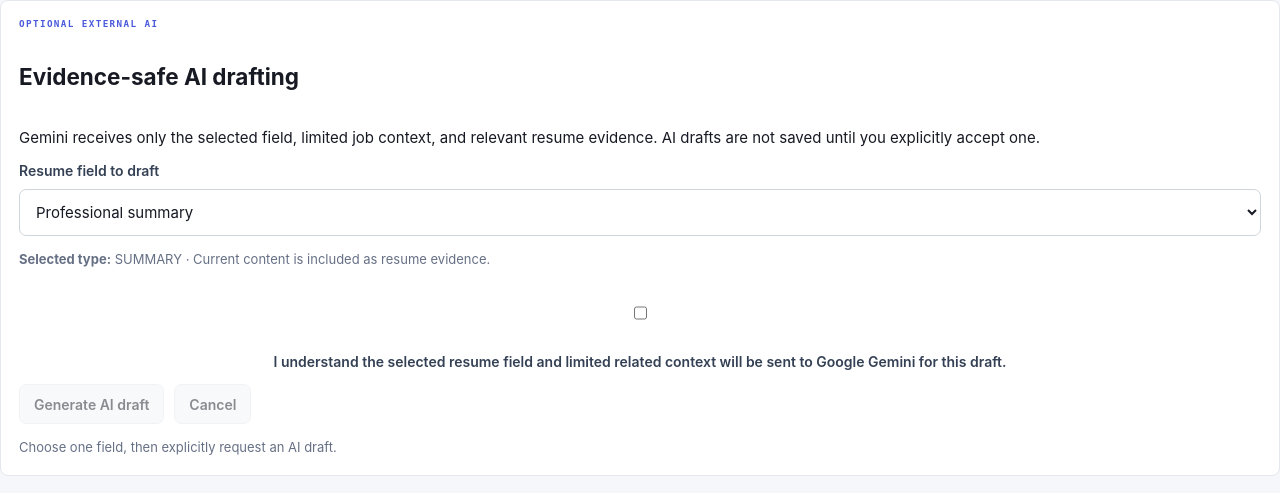
Test: AiDraftPanel › surfaces a normalized failure and keeps keyboard focus on Generate after cancellation
Click the checkbox labelled "I understand the selected resume field": (640, 313) [634,285,647,341]
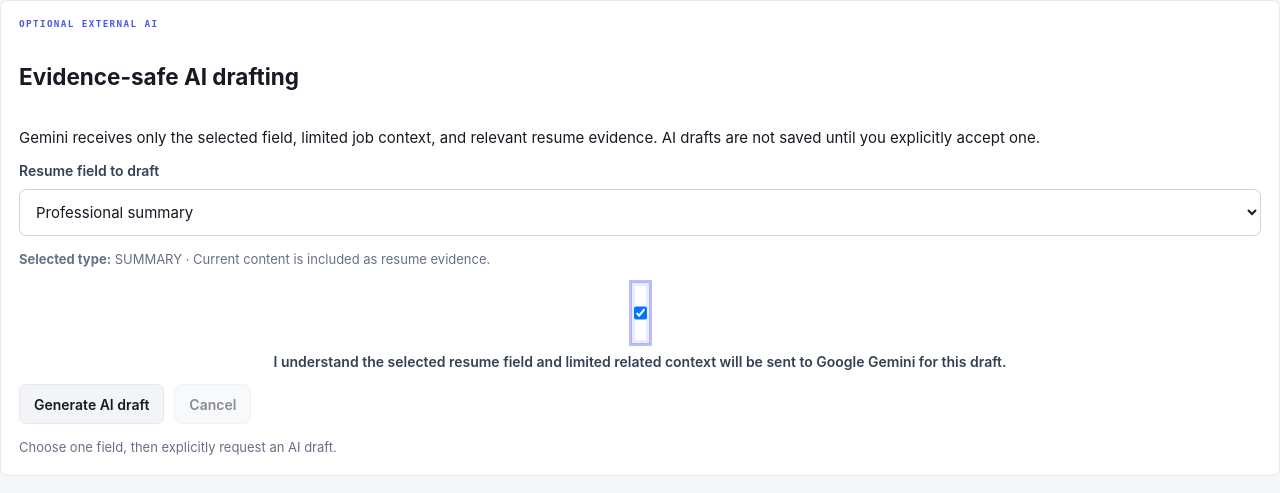
Click the button "Generate AI draft": (92, 404) [19,384,164,424]
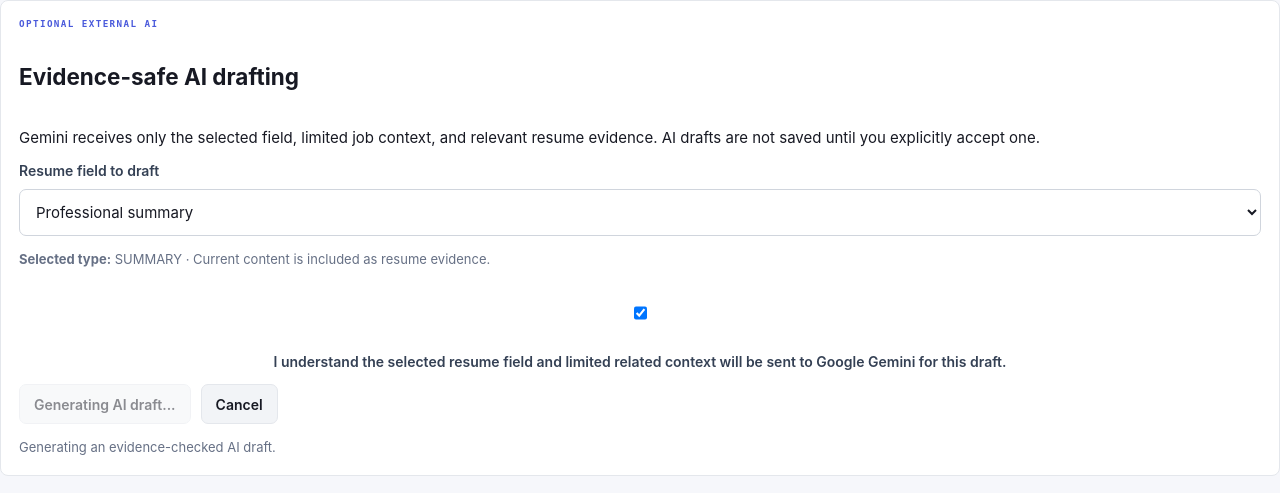
Click the button "Cancel": (239, 404) [201,384,278,424]
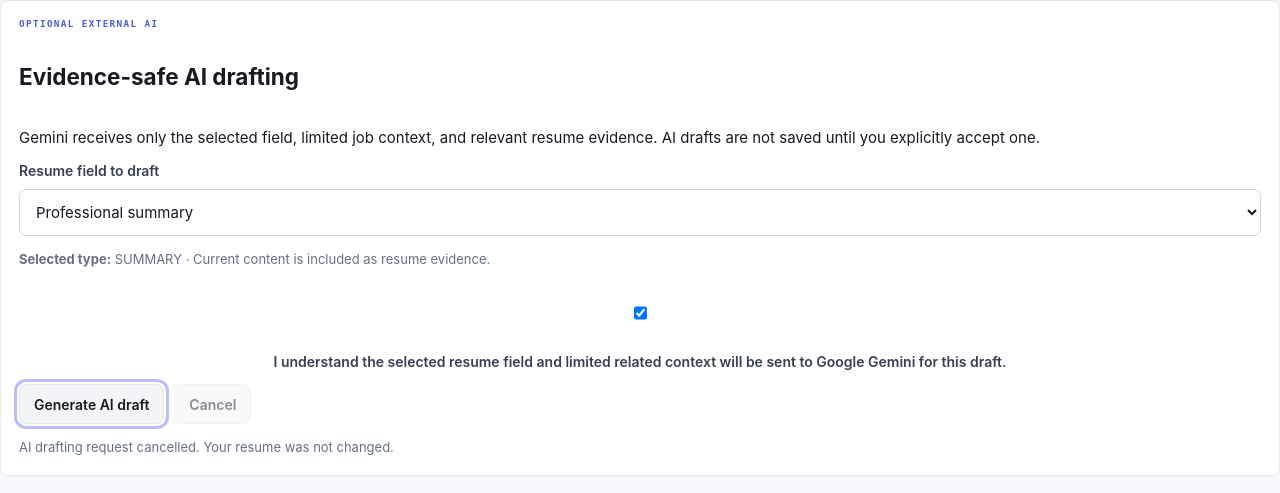
Expected: the button "Generate AI draft" is enabled, [19,384,164,424]
